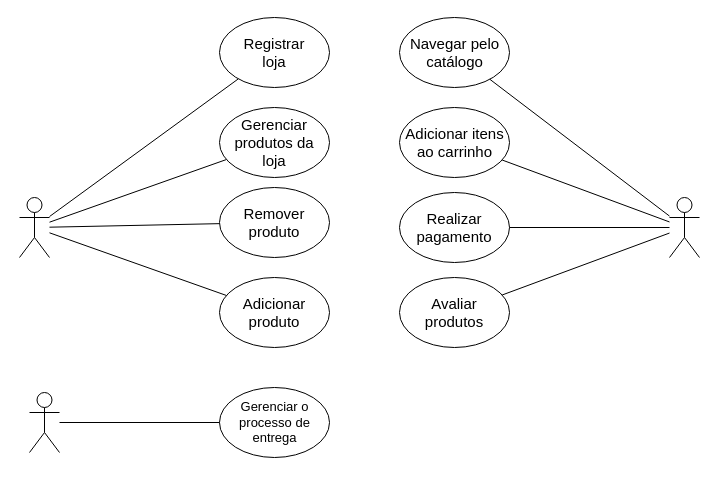
This 720x491 diagram has some shape labels left out. The box of each missing label's shape, as (x1, y1, x2, y2) in pixels:
Cliente: (668, 196, 700, 258)
Lojista: (18, 196, 50, 258)
Sistema: (28, 392, 60, 452)
